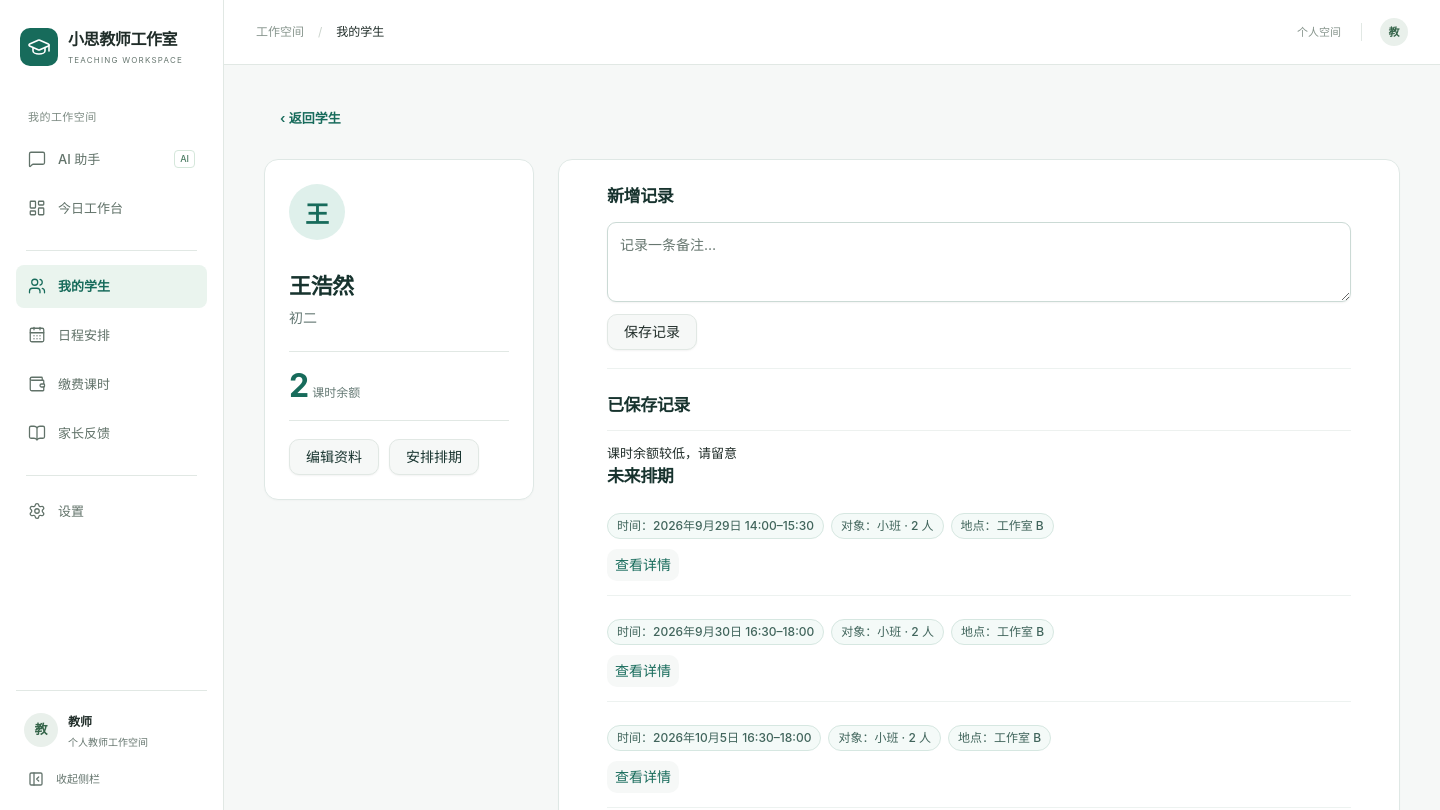
Test: student profile editing › uses the updated name in the linked schedule detail
Step 1. Click the button "编辑资料" → click(334, 457), box [289, 439, 379, 475]
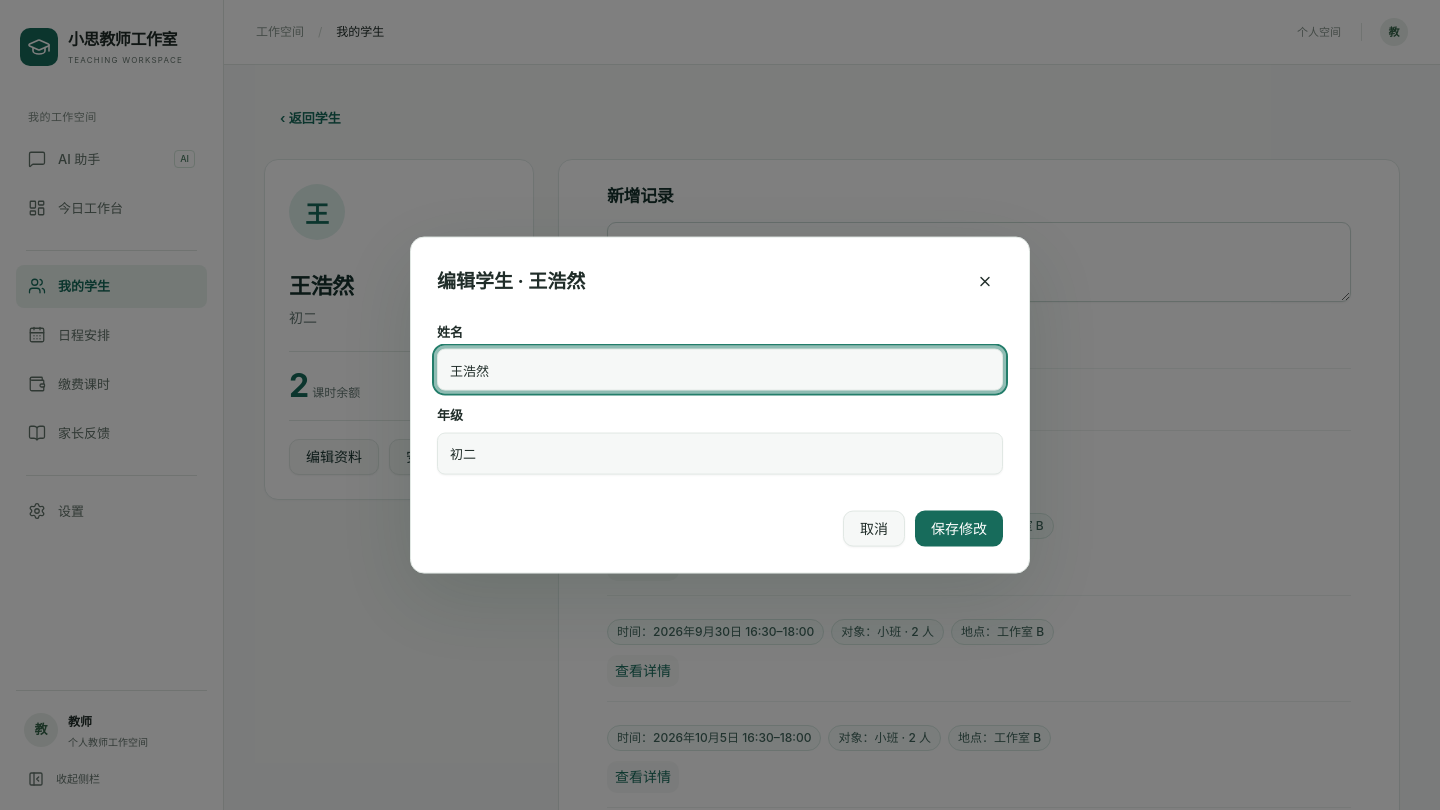
Step 2. Replace the text in the field labelled "姓名" with "王浩然新名" → (720, 370), box [437, 349, 1003, 391]
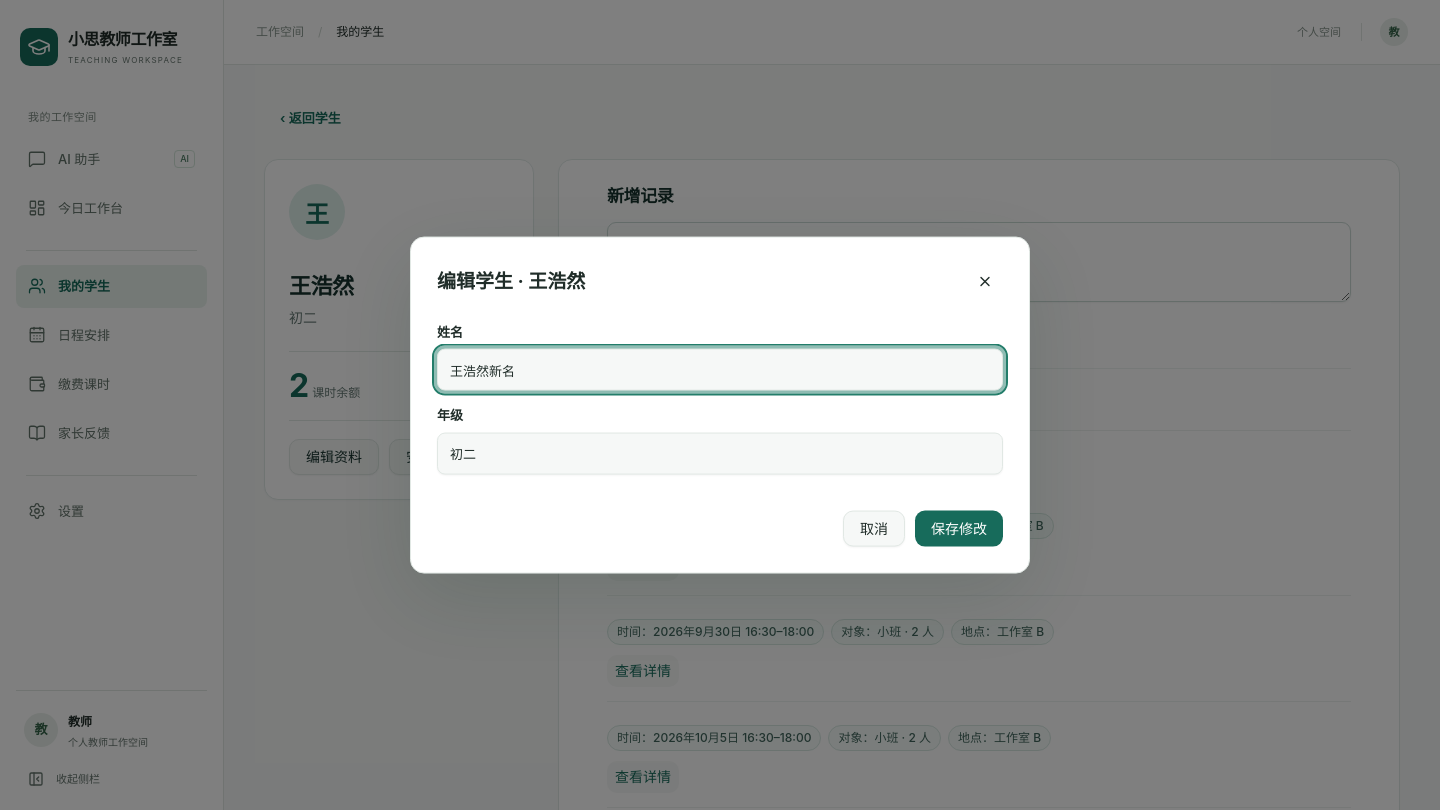
Step 3. Click the button "保存修改" → click(959, 528), box [915, 510, 1003, 546]
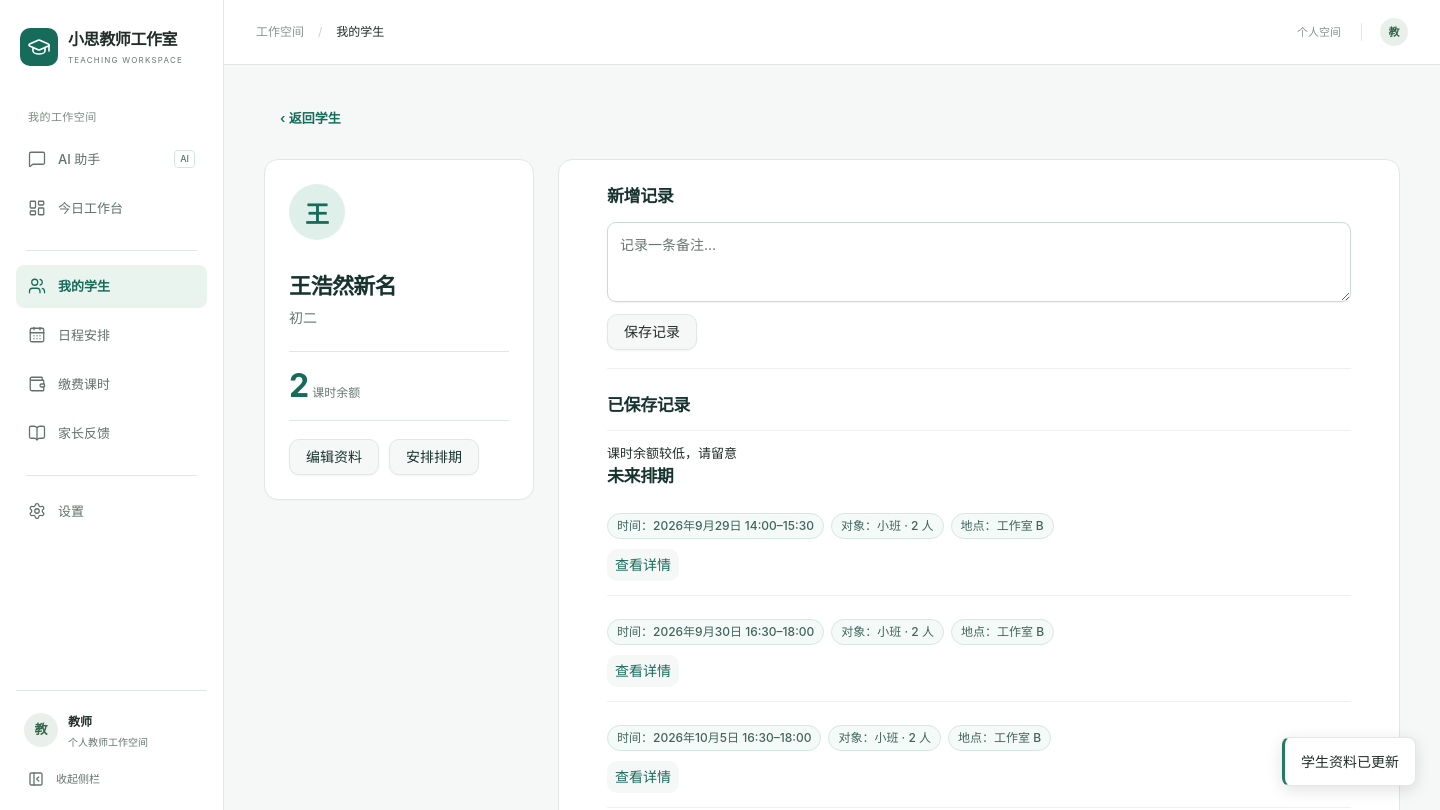
Step 4. Click the button "查看详情" below "2026年9月29日" → click(643, 565), box [607, 549, 679, 581]
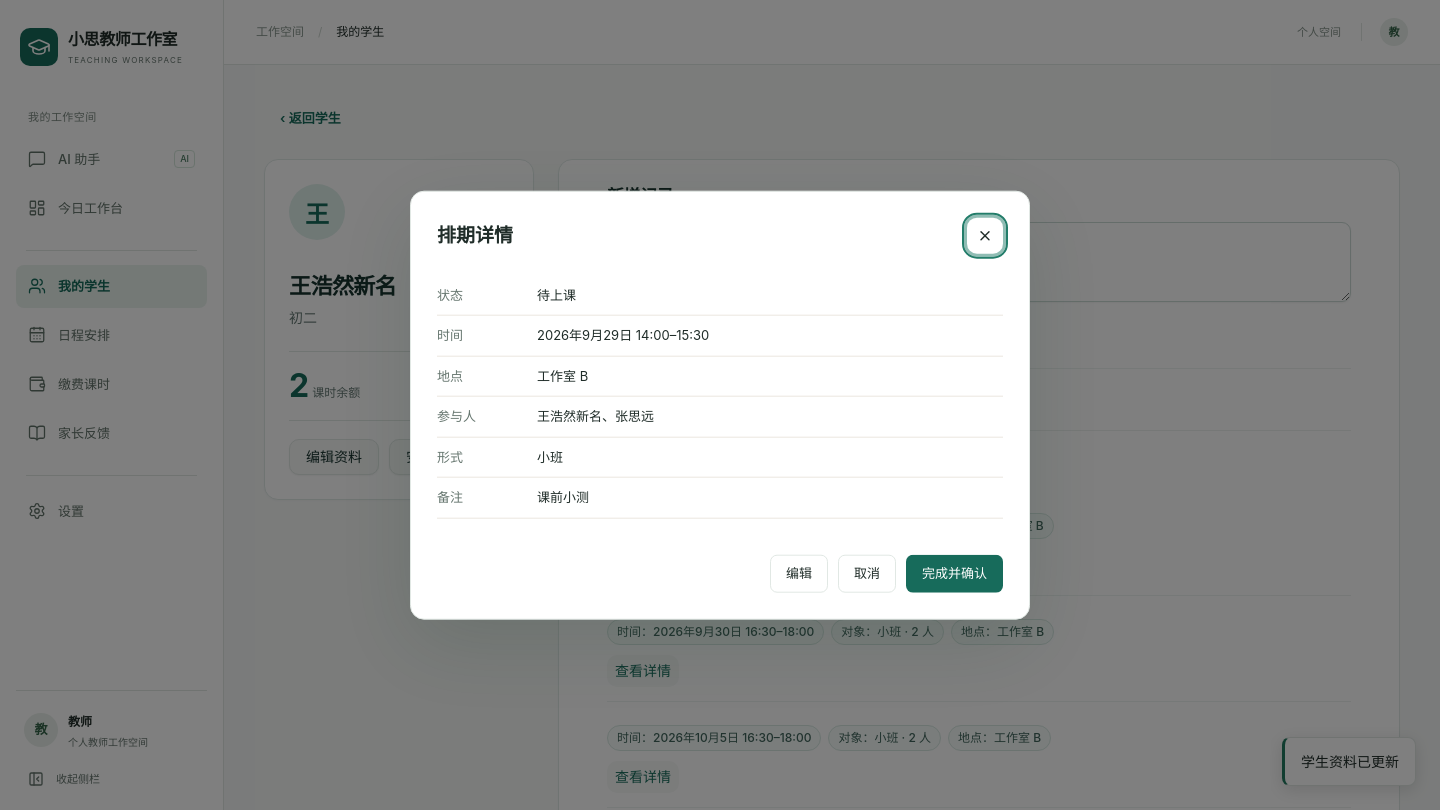
expect the text "王浩然新名、张思远" is shown: met, box [537, 408, 654, 424]
